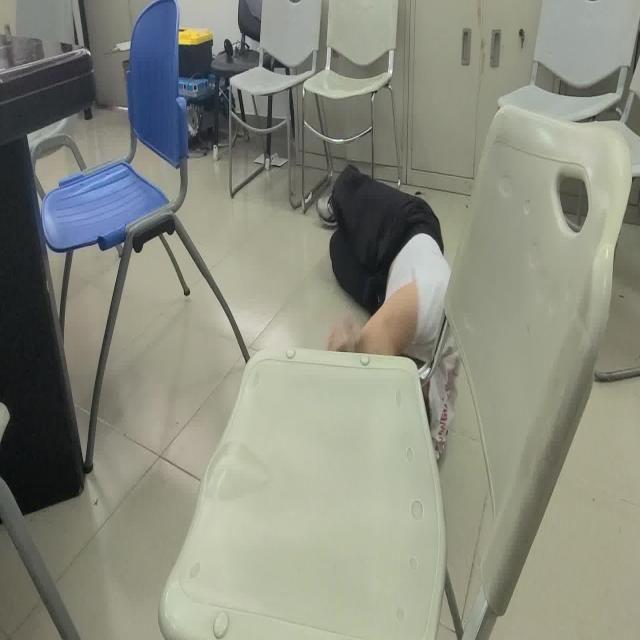Fall-Detected: (328, 165, 458, 374)
